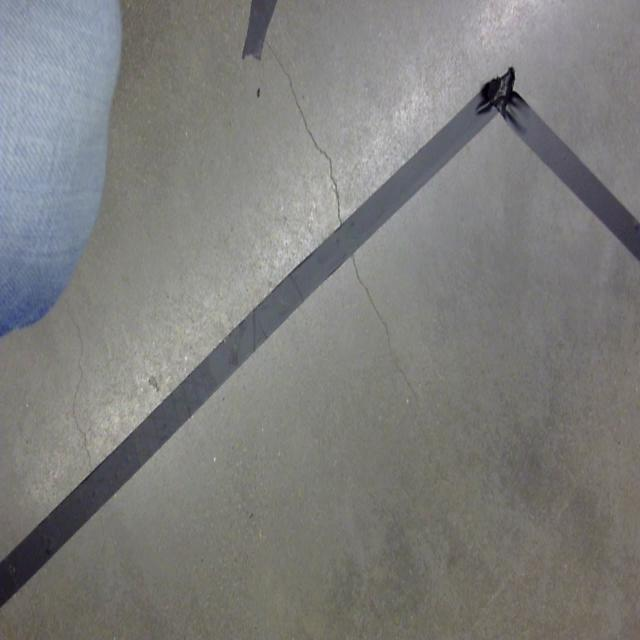tape: (0, 43, 640, 632), (233, 0, 295, 96)
